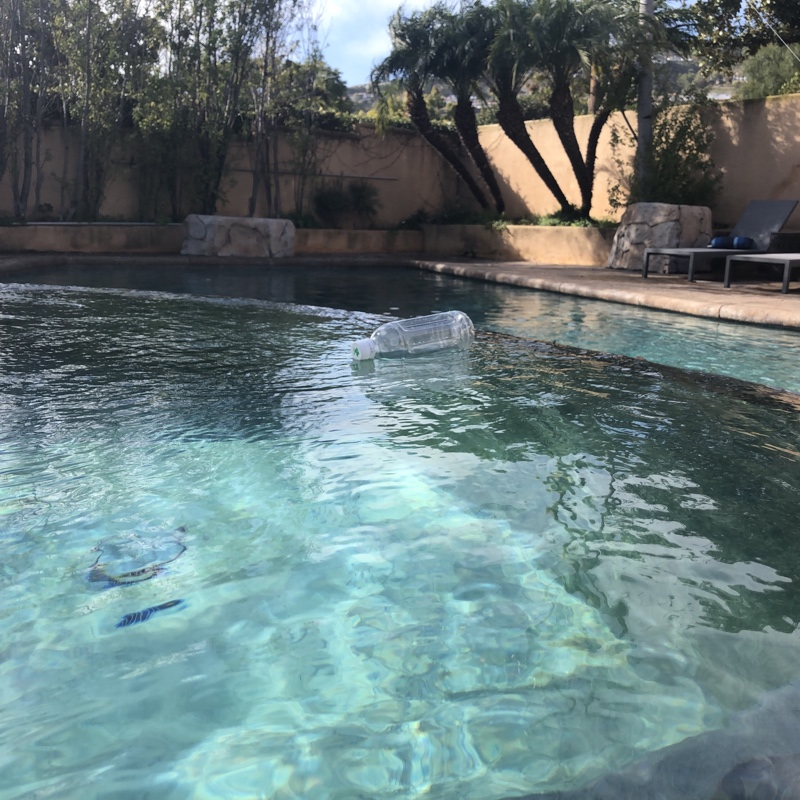Plastic Bottle: (346, 308, 477, 369)
